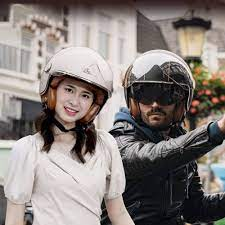helmets: (123, 49, 195, 111), (39, 47, 115, 99)
